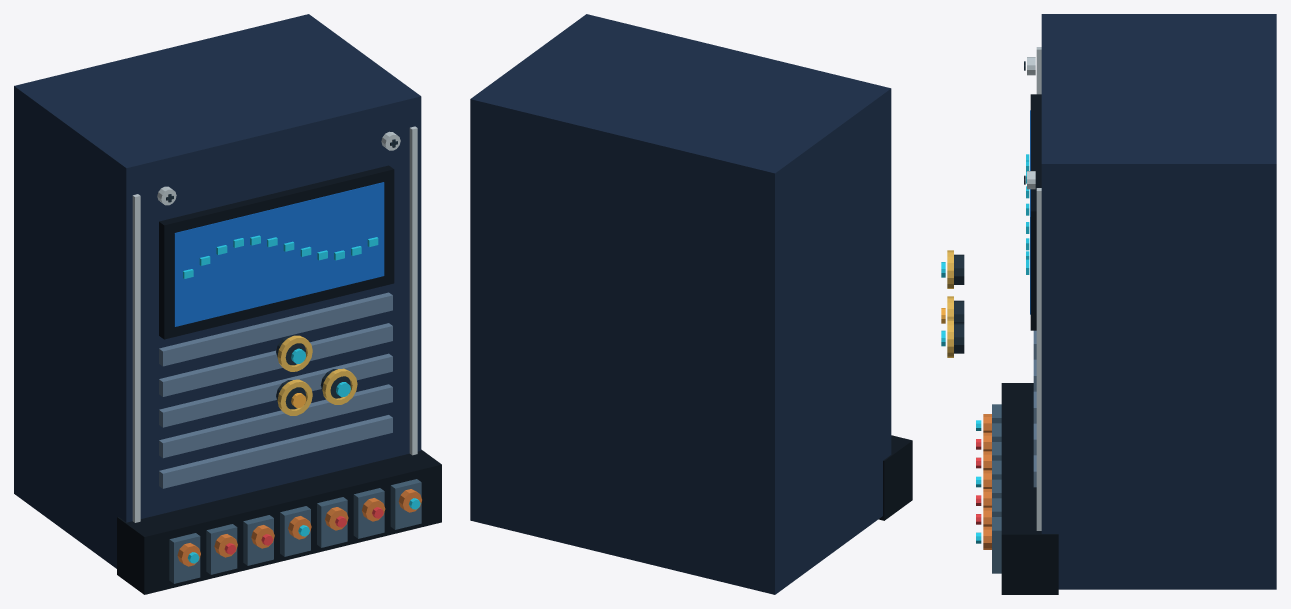
The model's file is 57_L83_MissionTaskPowerScheduler.fbx.
3 views of the same model, side by side, from view 1: azimuth 30°, elevation 25°; view 2: azimuth 150°, elevation 25°; view 3: azimuth 270°, elevation 25° (orthographic). The views are drawn at different scales.
Parts seen in each view (by area): view 1: MissionTaskPowerScheduler; view 2: MissionTaskPowerScheduler; view 3: MissionTaskPowerScheduler.
Part boxes in pixels (x1=…): MissionTaskPowerScheduler: x1=14, y1=14, x2=441, y2=594; MissionTaskPowerScheduler: x1=470, y1=14, x2=912, y2=594; MissionTaskPowerScheduler: x1=941, y1=14, x2=1276, y2=594.
Bounding box in the file's own units: 113 × 150 × 106.
